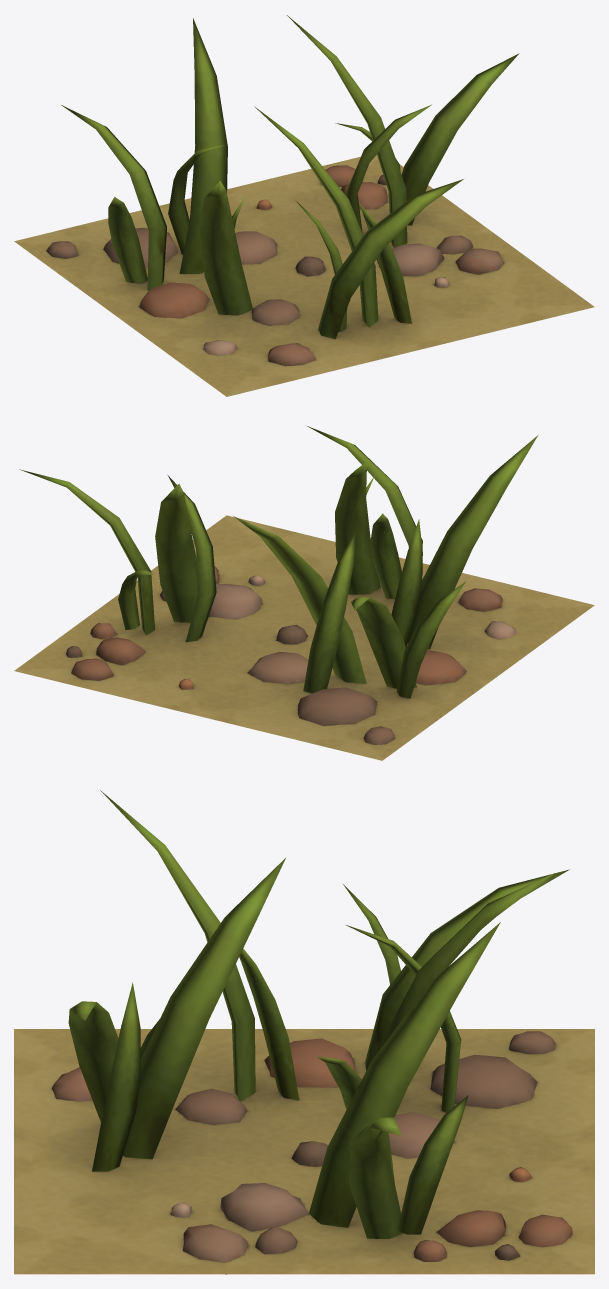
Rendered from O-Sol_Dalle2.FBX.
The picture shows the model from 3 angles, top to bottom: view 1: azimuth 30°, elevation 25°; view 2: azimuth 150°, elevation 25°; view 3: azimuth 270°, elevation 25°; orthographic projection. The views are drawn at different scales.
Parts seen in each view (by area): view 1: Sol_Herbe2; view 2: Sol_Herbe2; view 3: Sol_Herbe2.
Boxes of the visible parts, box(x1,y1,x2,y2) form: Sol_Herbe2: box(14, 15, 594, 396); Sol_Herbe2: box(14, 426, 594, 760); Sol_Herbe2: box(14, 790, 594, 1274).
Bounding box in the file's own units: 2.36 × 1.18 × 2.
